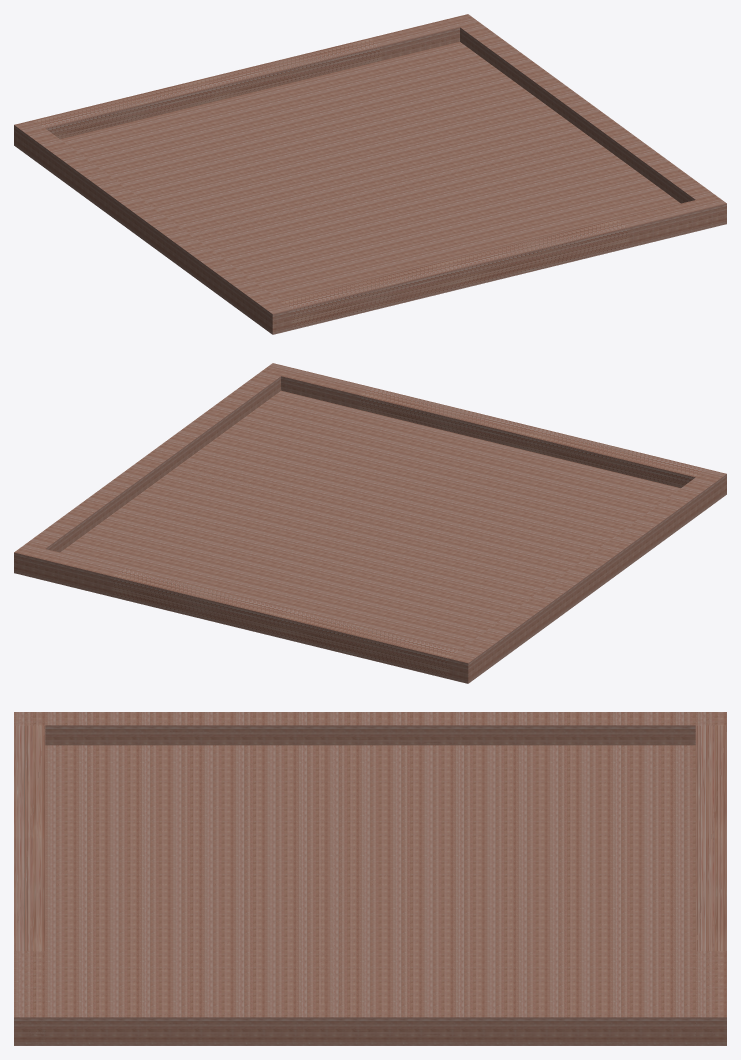
The model's file is TableWooden.obj.
The picture shows the model from 3 angles, top to bottom: view 1: azimuth 30°, elevation 25°; view 2: azimuth 150°, elevation 25°; view 3: azimuth 270°, elevation 25°; orthographic projection. The views are drawn at different scales.
Parts seen in each view (by area): view 1: mergedBlocks; view 2: mergedBlocks; view 3: mergedBlocks.
Part boxes in pixels (box(x1,y1,x2,y2)): mergedBlocks: box(14, 14, 726, 334); mergedBlocks: box(14, 363, 726, 683); mergedBlocks: box(14, 712, 726, 1045).
Size of the model in its own units: 23 by 1 by 22.7.
Materials: 2 (2 with a texture image).
